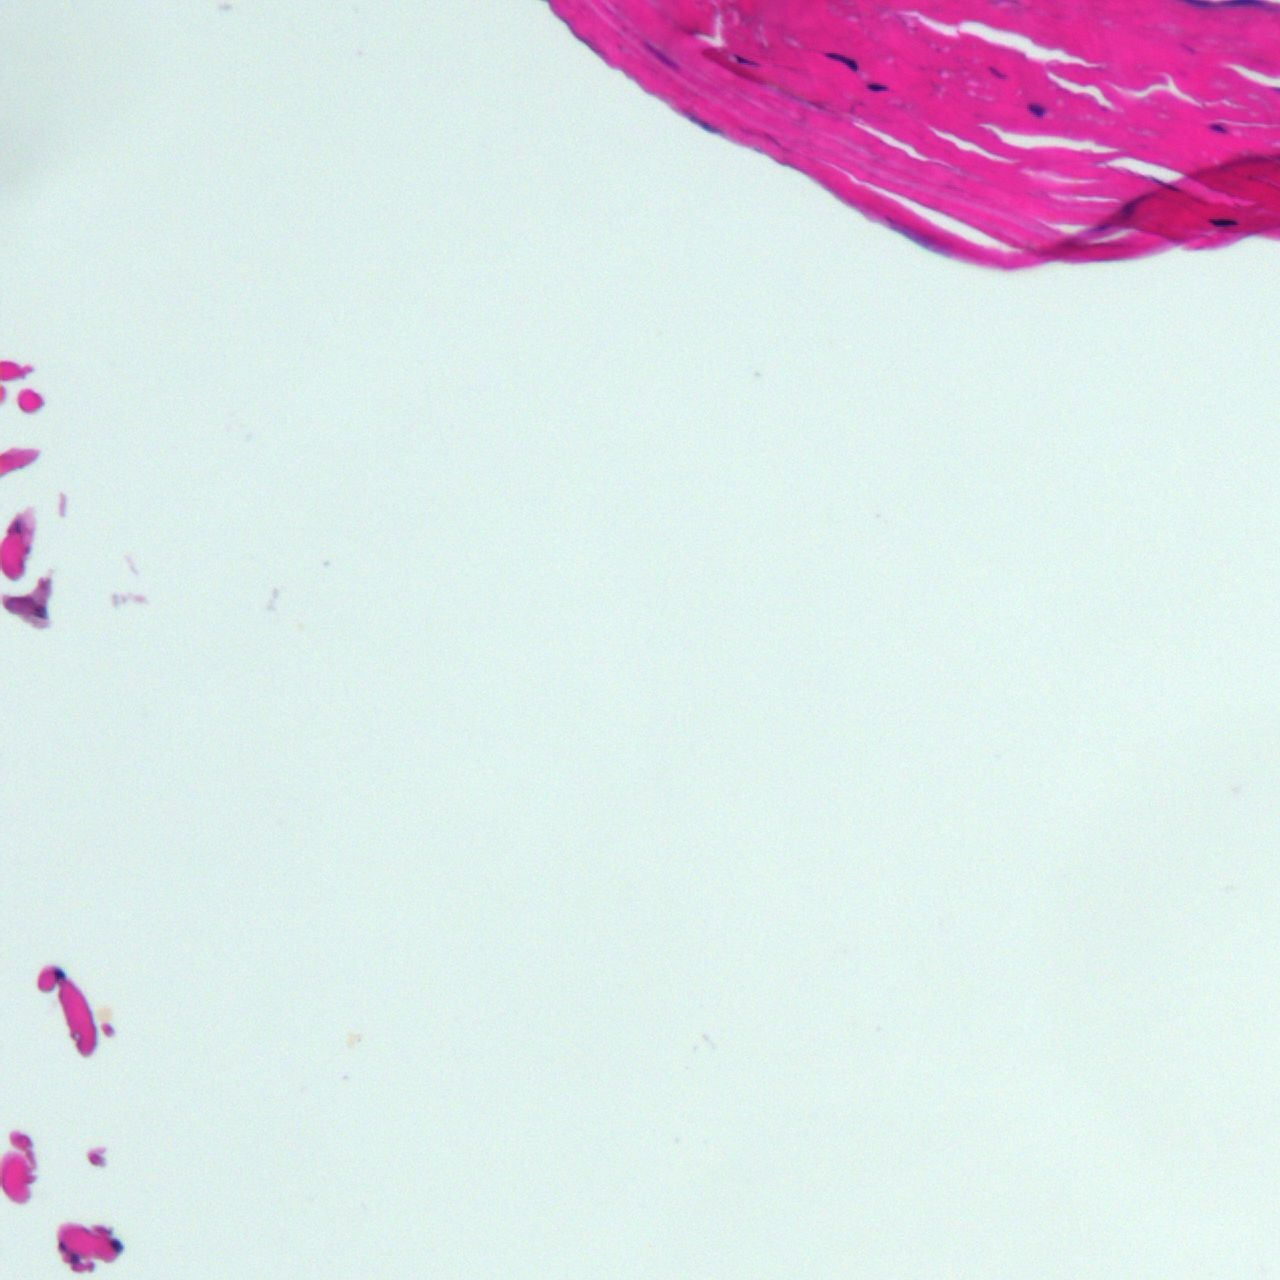nucleus-HE: (638, 36, 682, 78), (821, 46, 863, 74), (683, 106, 718, 139), (1148, 174, 1180, 195), (731, 50, 759, 71), (985, 63, 1010, 83), (1025, 102, 1048, 118), (1208, 217, 1238, 227), (864, 81, 890, 92), (1208, 122, 1225, 133)
